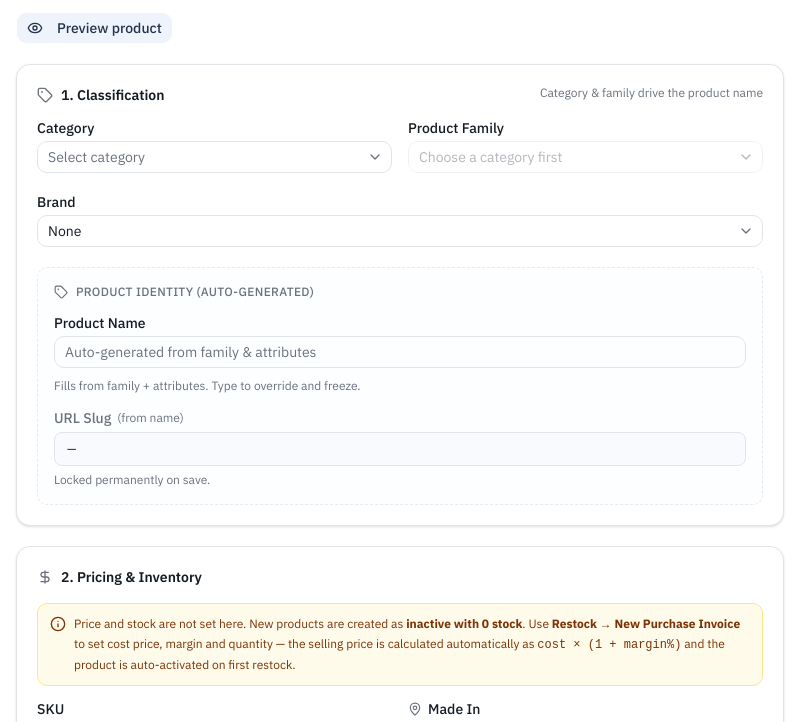
NewProductForm › wires the classification fields into the shared form context (slug follows name)
Step 1. Type "Test Product" into the field labelled "Product Name" → (400, 352), box [54, 336, 746, 368]
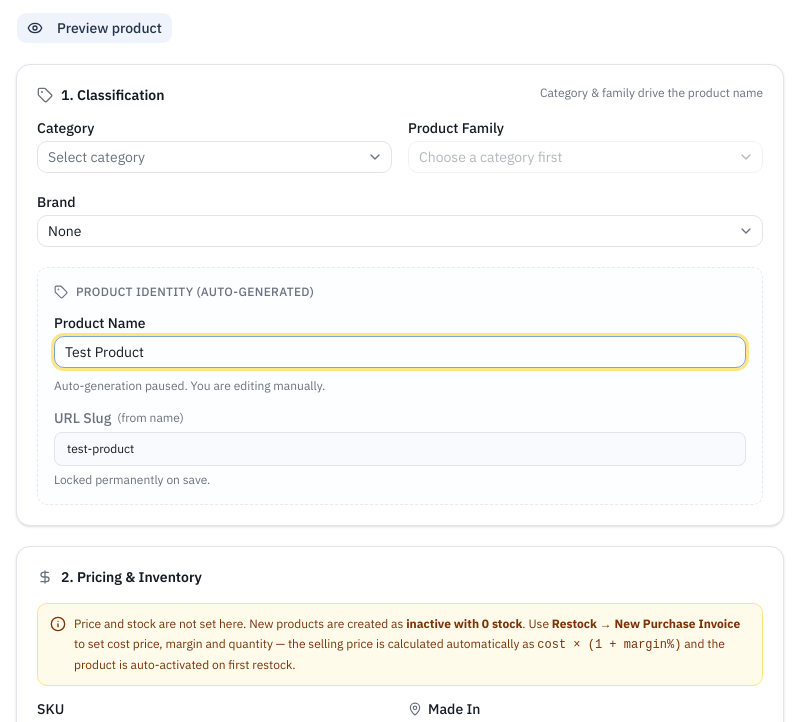
Check: the text "test-product" is shown, box [54, 432, 746, 466]
